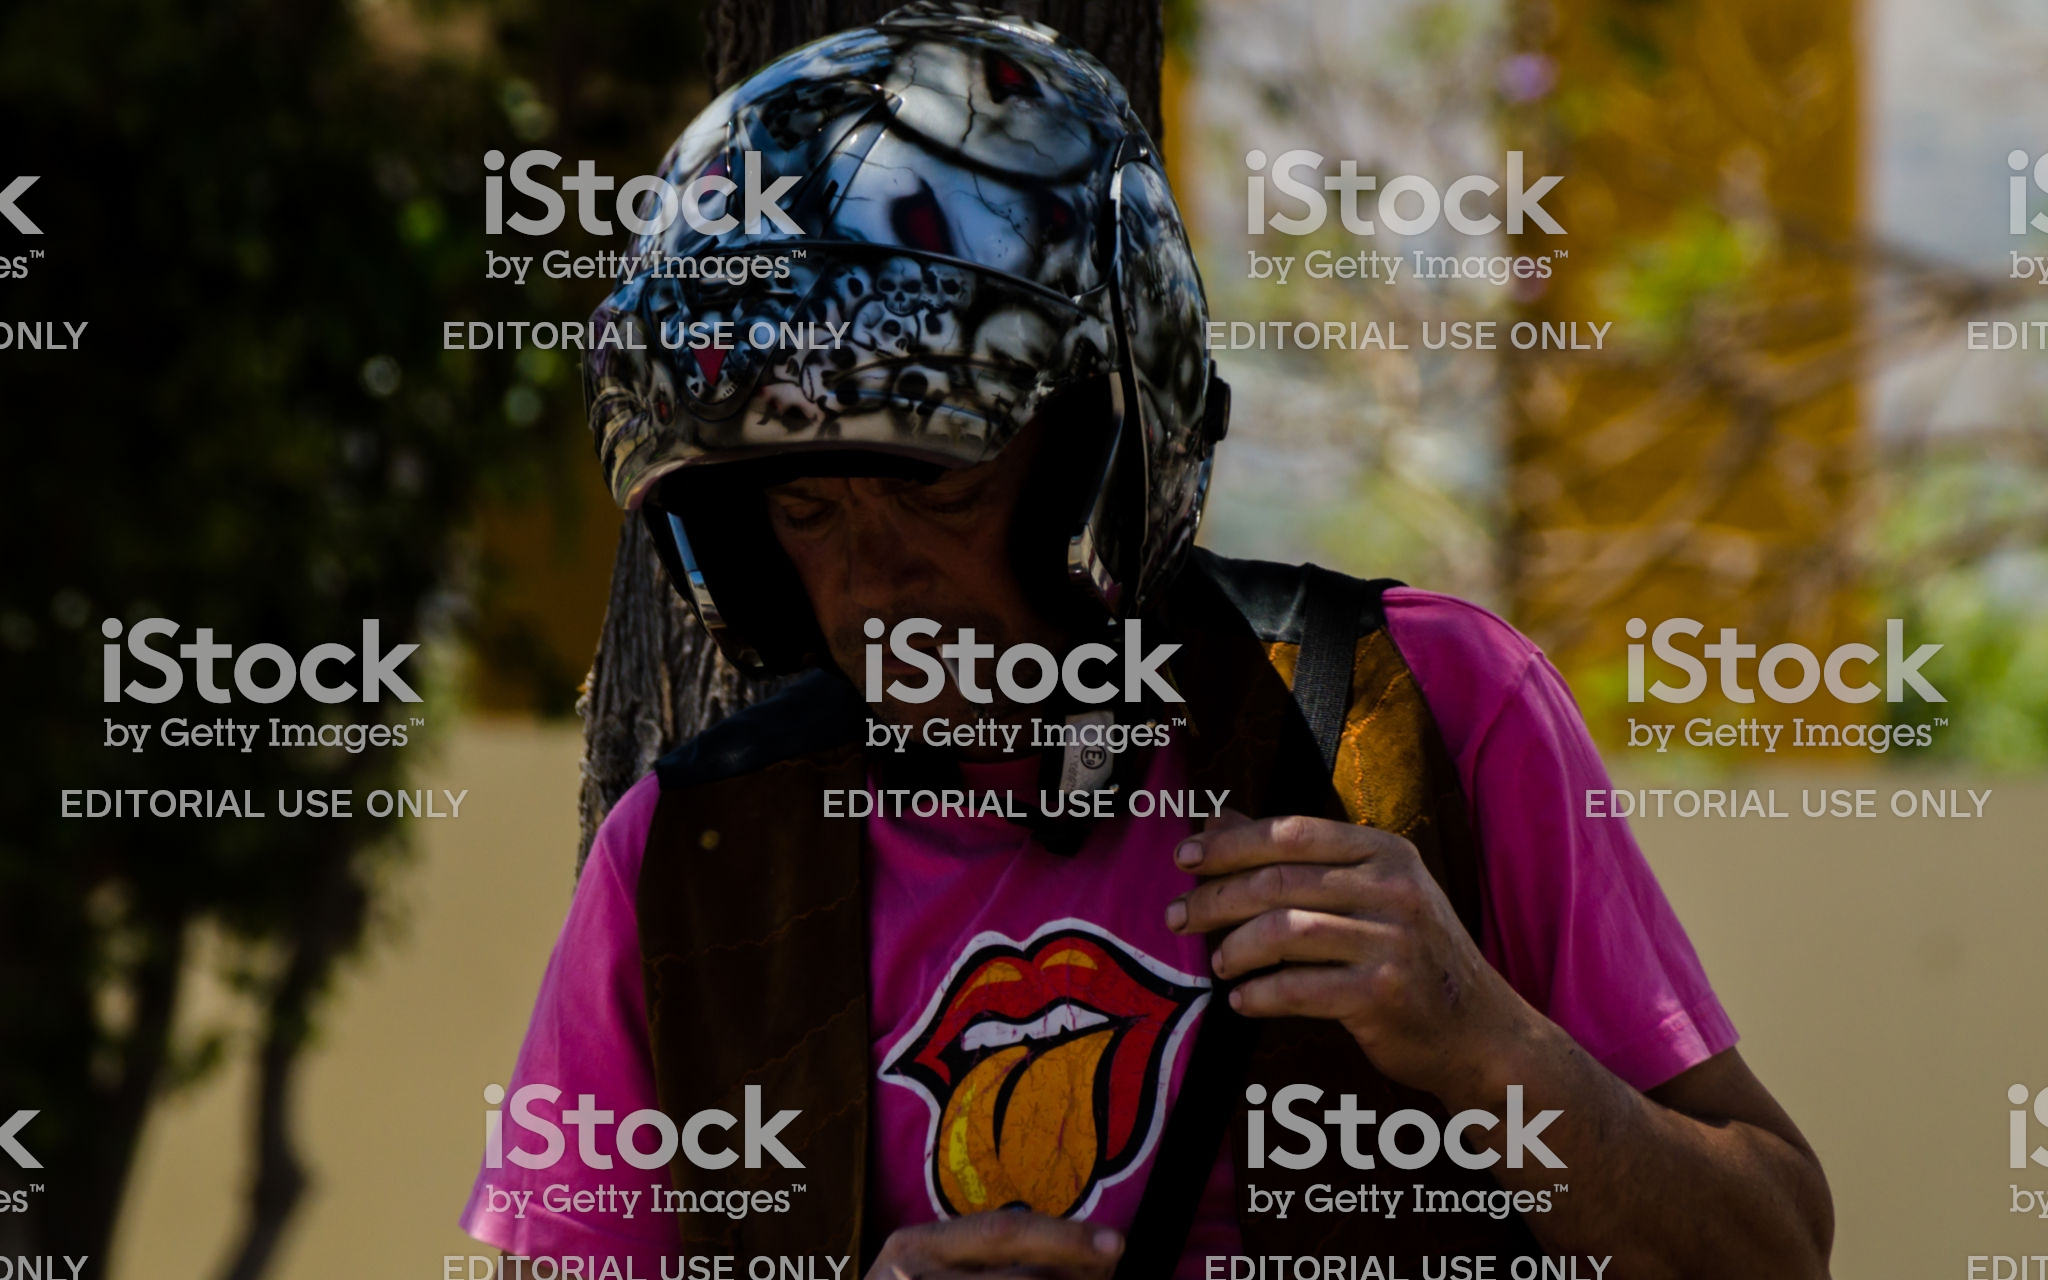helmet: (577, 40, 1247, 515)
